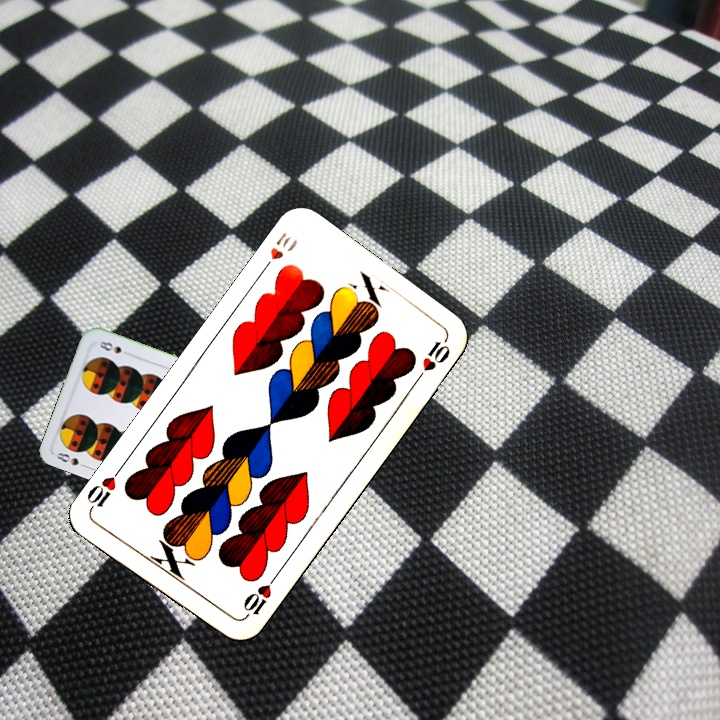H10: (238, 572, 279, 623), (256, 228, 295, 277)
S8: (52, 448, 91, 471)
